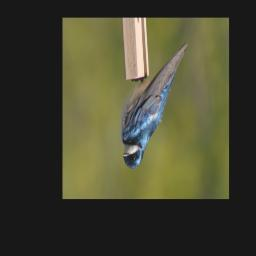Swallow: (119, 39, 188, 172)
